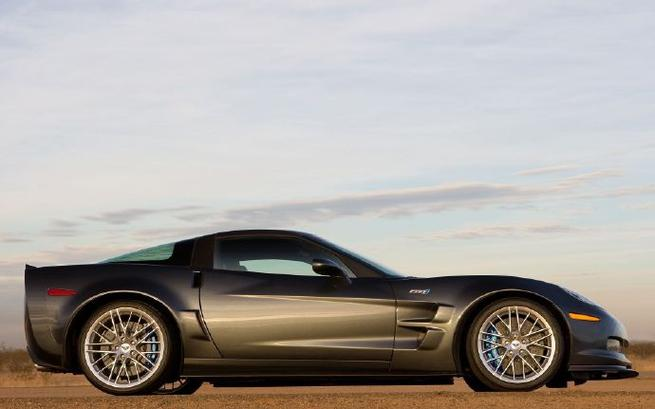汽车: (7, 224, 645, 396)
